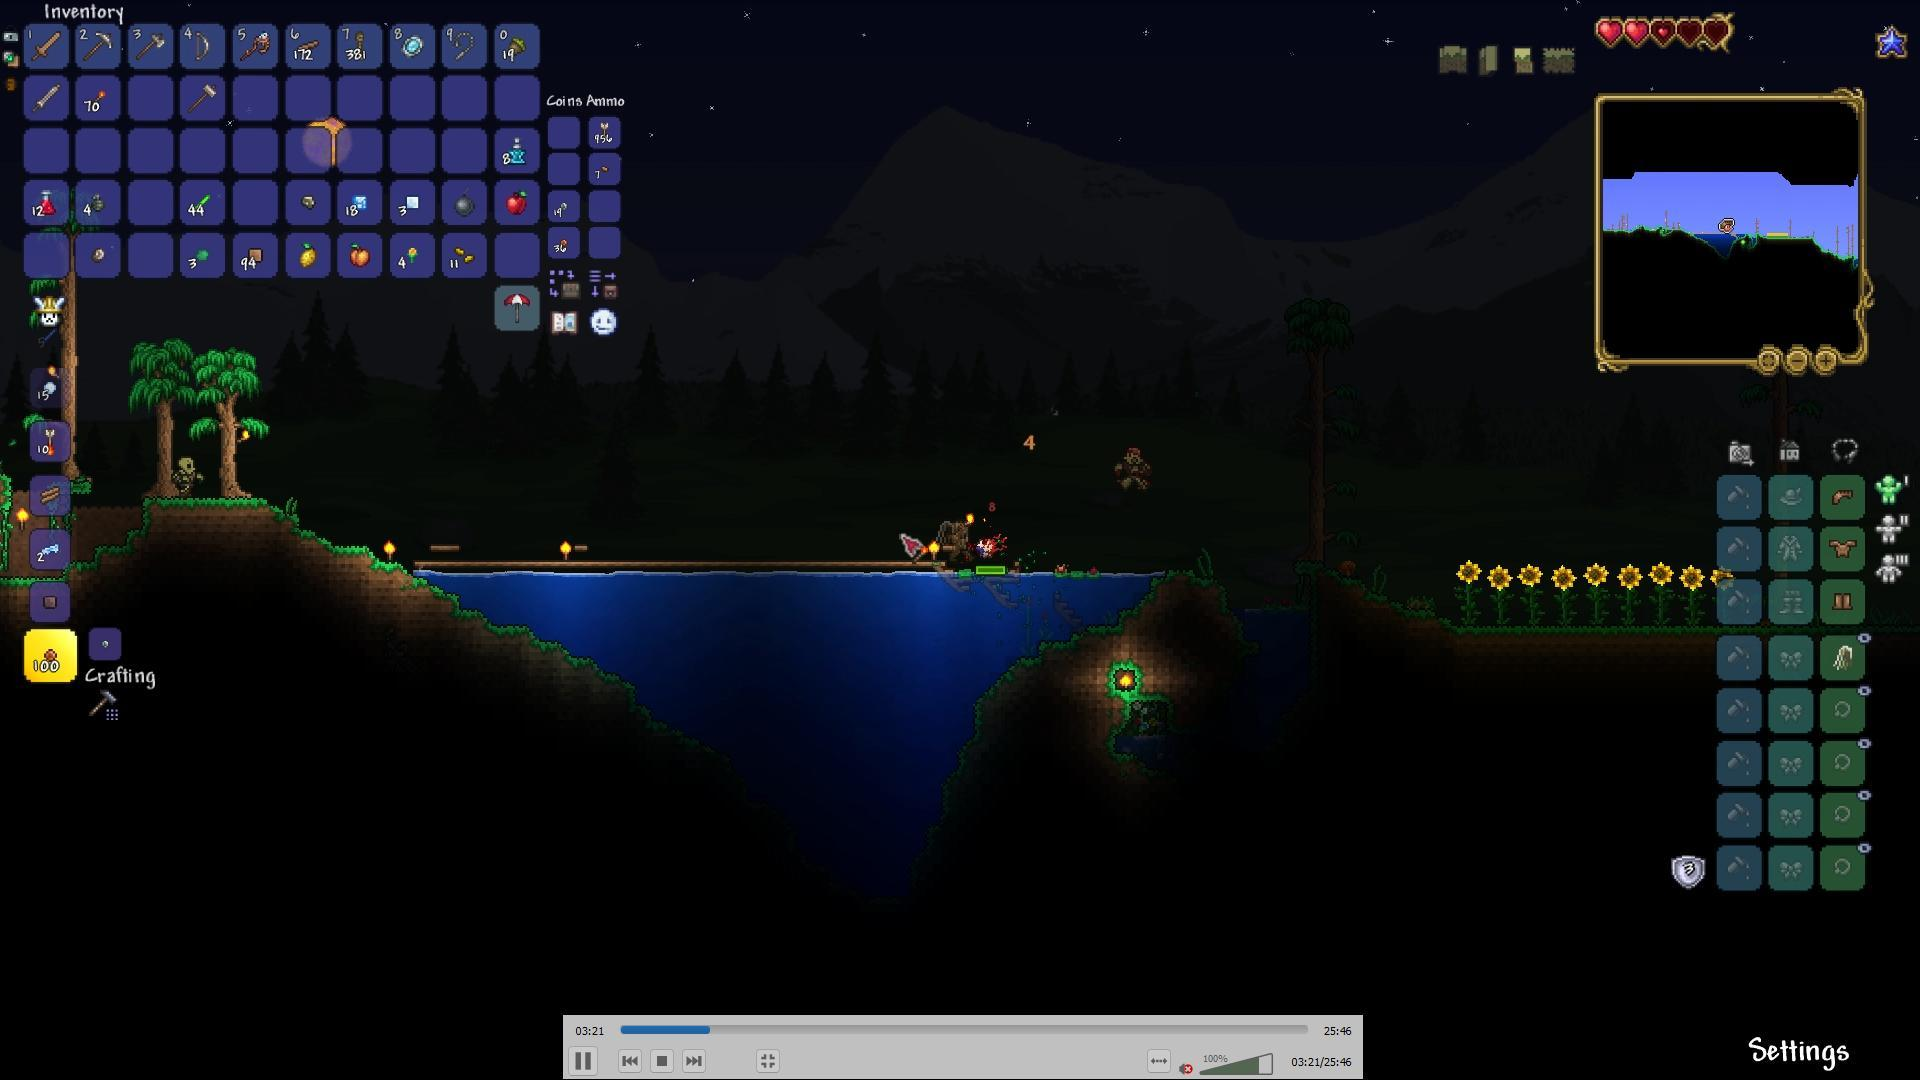grenade: (87, 190, 107, 214)
potion: (34, 187, 59, 216)
recallP: (508, 132, 527, 167)
